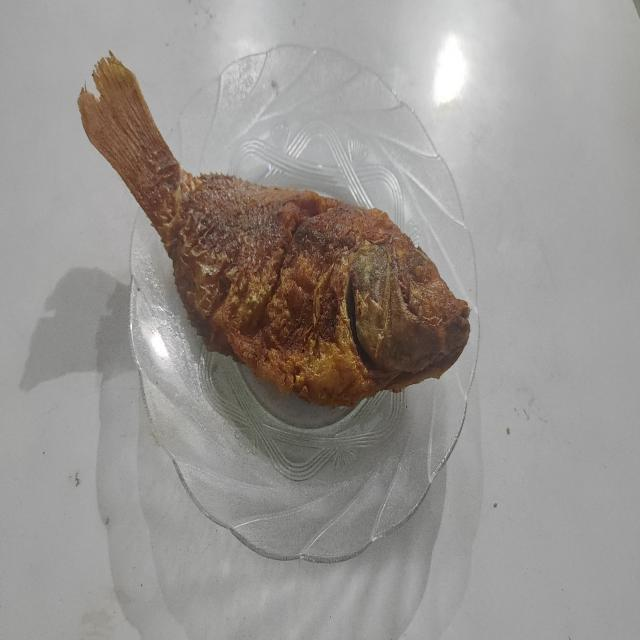ikan_mujair: (80, 54, 470, 406)
